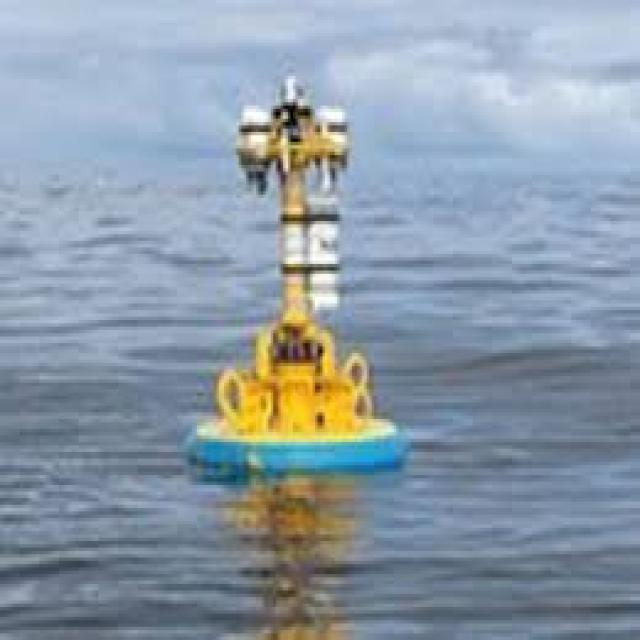2.5 sepcial mark: (187, 57, 419, 488)
